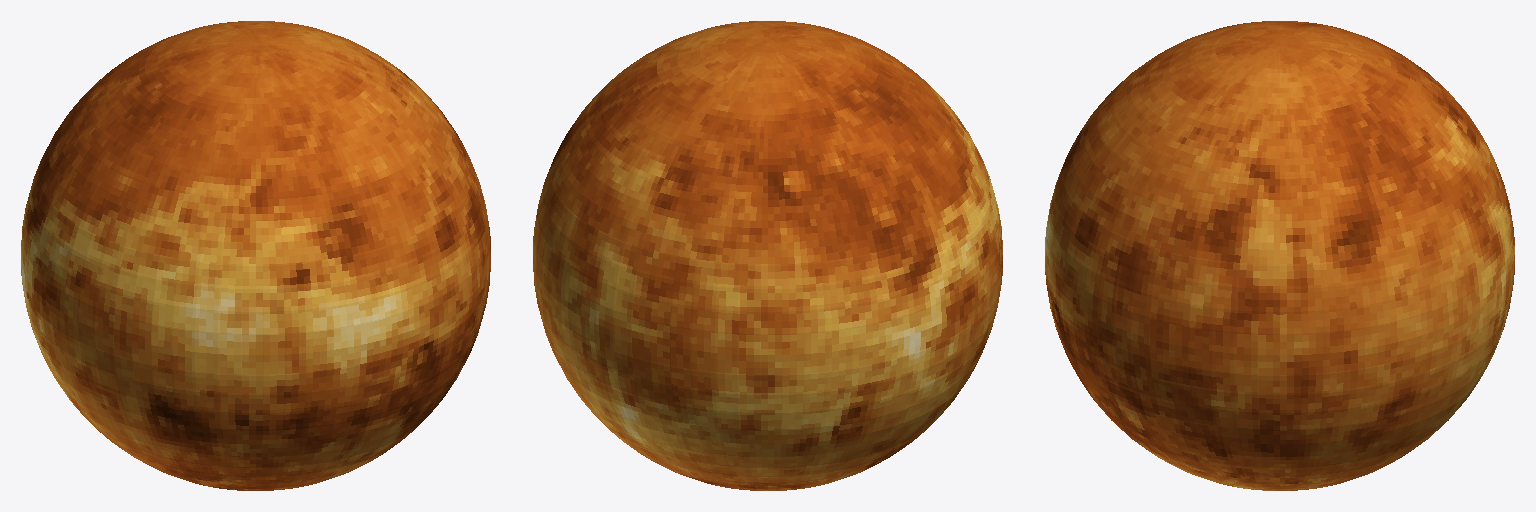
3 renders of one model, left to right at view 1: azimuth 30°, elevation 25°; view 2: azimuth 150°, elevation 25°; view 3: azimuth 270°, elevation 25°, orthographic.
Visible parts, largest first — view 1: Sphere; view 2: Sphere; view 3: Sphere.
Boxes of the visible parts, x1,y1,x2,y2 form: Sphere: [21, 21, 490, 490]; Sphere: [533, 21, 1002, 490]; Sphere: [1045, 21, 1514, 490].
Bounding box in the file's own units: 2 × 2 × 2.
1 materials, 1 textured.